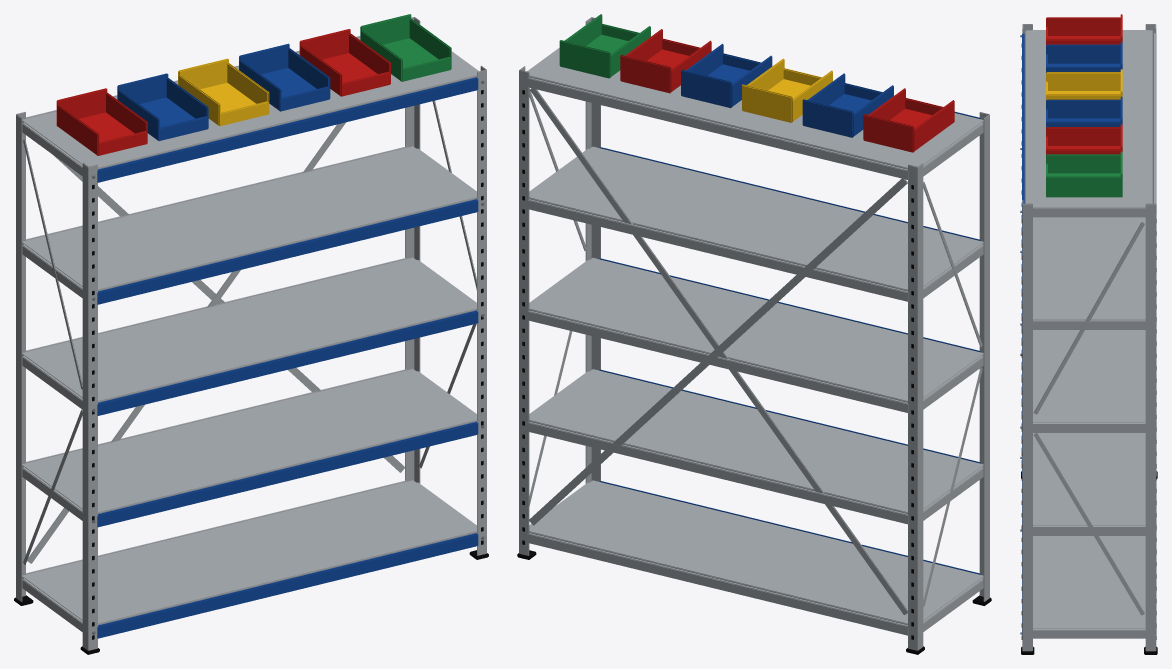
The model's file is shelf_small.glb.
The picture shows the model from 3 angles, left to right: view 1: azimuth 30°, elevation 25°; view 2: azimuth 150°, elevation 25°; view 3: azimuth 270°, elevation 25°; orthographic projection. The views are drawn at different scales.
Parts seen in each view (by area): view 1: PC_Galv, PC_Blue, PC_Red, PC_Yellow, PC_Green, PC_Black; view 2: PC_Galv, PC_Blue, PC_Red, PC_Green, PC_Yellow, PC_Black; view 3: PC_Galv, PC_Blue, PC_Red, PC_Green, PC_Yellow, PC_Black.
Part boxes in pixels (<box>): PC_Galv: <box>16,17,486,650</box>; PC_Blue: <box>97,43,478,638</box>; PC_Red: <box>56,29,390,155</box>; PC_Yellow: <box>178,58,269,126</box>; PC_Green: <box>360,14,451,81</box>; PC_Black: <box>92,90,483,639</box>; PC_Galv: <box>519,17,989,650</box>; PC_Blue: <box>599,43,980,574</box>; PC_Red: <box>620,29,954,152</box>; PC_Green: <box>559,14,650,78</box>; PC_Yellow: <box>742,58,832,122</box>; PC_Black: <box>522,90,913,639</box>; PC_Galv: <box>1022,24,1156,651</box>; PC_Blue: <box>1022,33,1122,635</box>; PC_Red: <box>1046,14,1122,155</box>; PC_Green: <box>1046,151,1122,197</box>; PC_Yellow: <box>1046,69,1122,100</box>; PC_Black: <box>1021,43,1156,639</box>.
Size of the model in its own units: 1.59 by 1.92 by 0.508.
